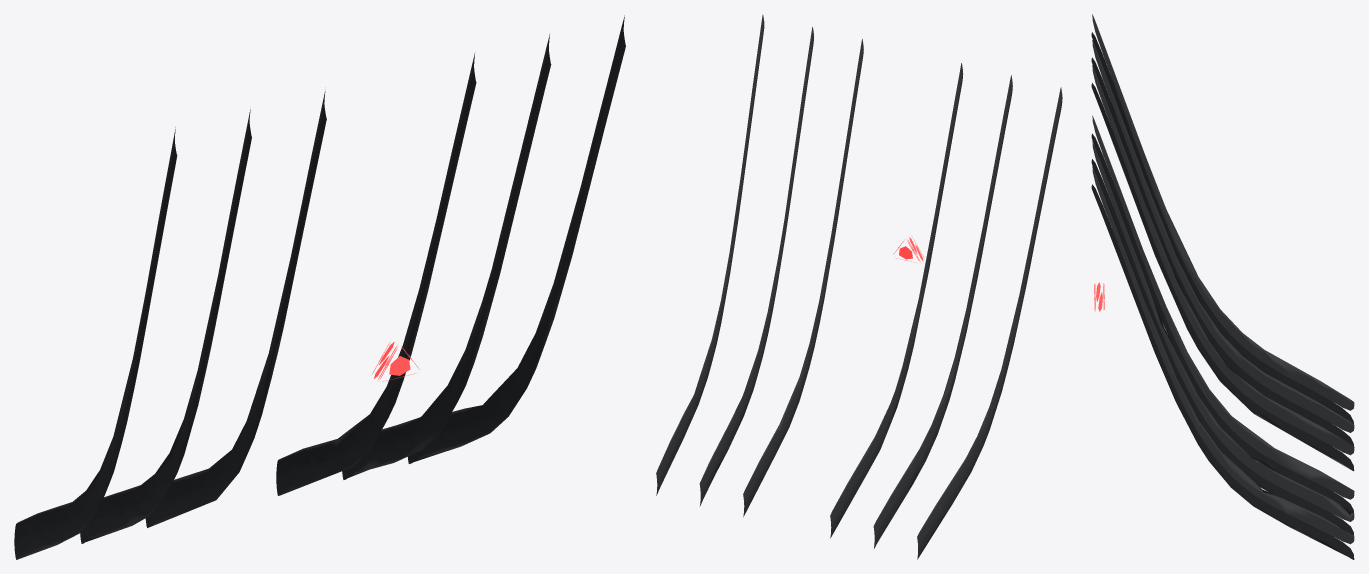
File: diffuser_strakes_light.glb
3 views of the same model, side by side, from view 1: azimuth 30°, elevation 25°; view 2: azimuth 150°, elevation 25°; view 3: azimuth 270°, elevation 25° (orthographic). The views are drawn at different scales.
Parts seen in each view (by area): view 1: Diffuser_Strakes_Rain_Light_Assembly; view 2: Diffuser_Strakes_Rain_Light_Assembly; view 3: Diffuser_Strakes_Rain_Light_Assembly.
Part boxes in pixels (x1,y1,x2,y2): Diffuser_Strakes_Rain_Light_Assembly: (14, 15, 625, 559); Diffuser_Strakes_Rain_Light_Assembly: (656, 14, 1062, 559); Diffuser_Strakes_Rain_Light_Assembly: (1091, 14, 1354, 559).
Size of the model in its own units: 0.9675 by 1.19 by 0.7019.
